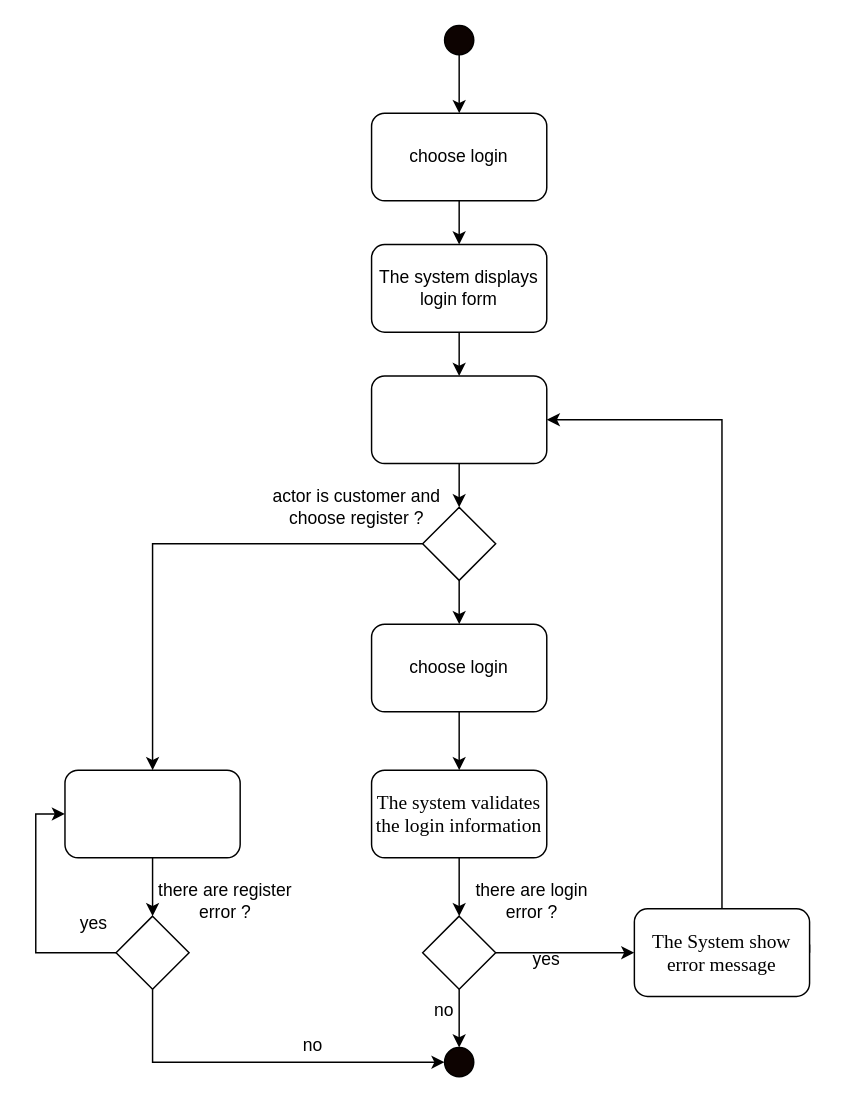
The diagram is 847 pixels wide and 1102 high, and some of its shapes have lost their labels. Each missing label, with the centre of its shape:
"input information" belongs at point (458, 419).
"input information and choose register" belongs at point (152, 813).
